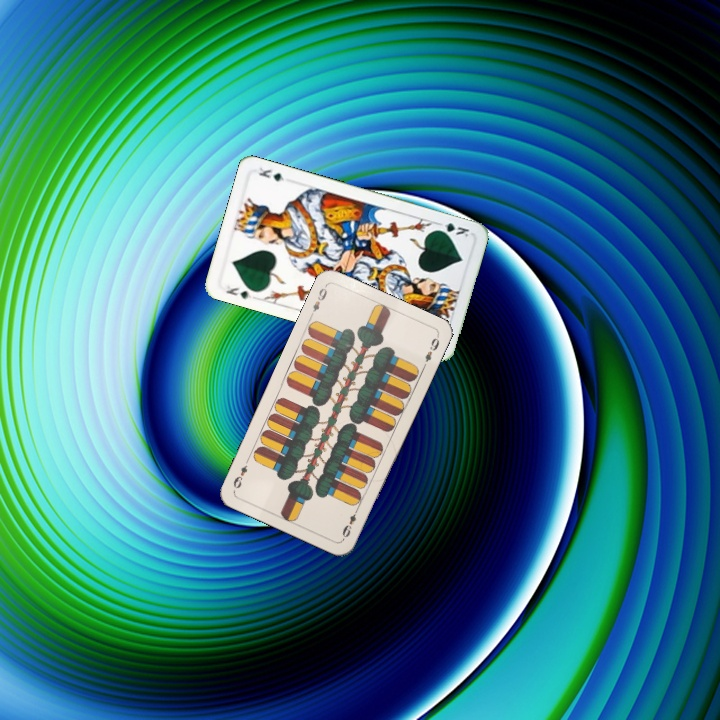E9: (306, 282, 330, 320), (338, 503, 361, 542)
GK: (432, 219, 472, 240), (222, 281, 254, 301)
